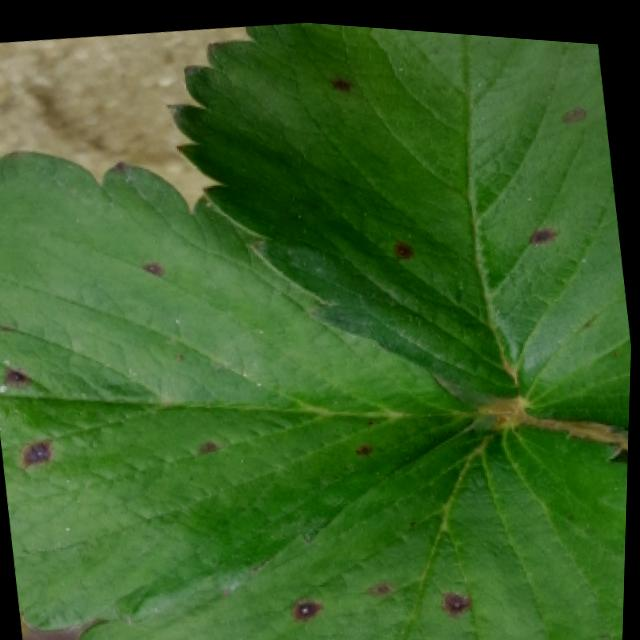Leaf Spot: (0, 145, 508, 632), (167, 17, 633, 423), (82, 407, 630, 640)
